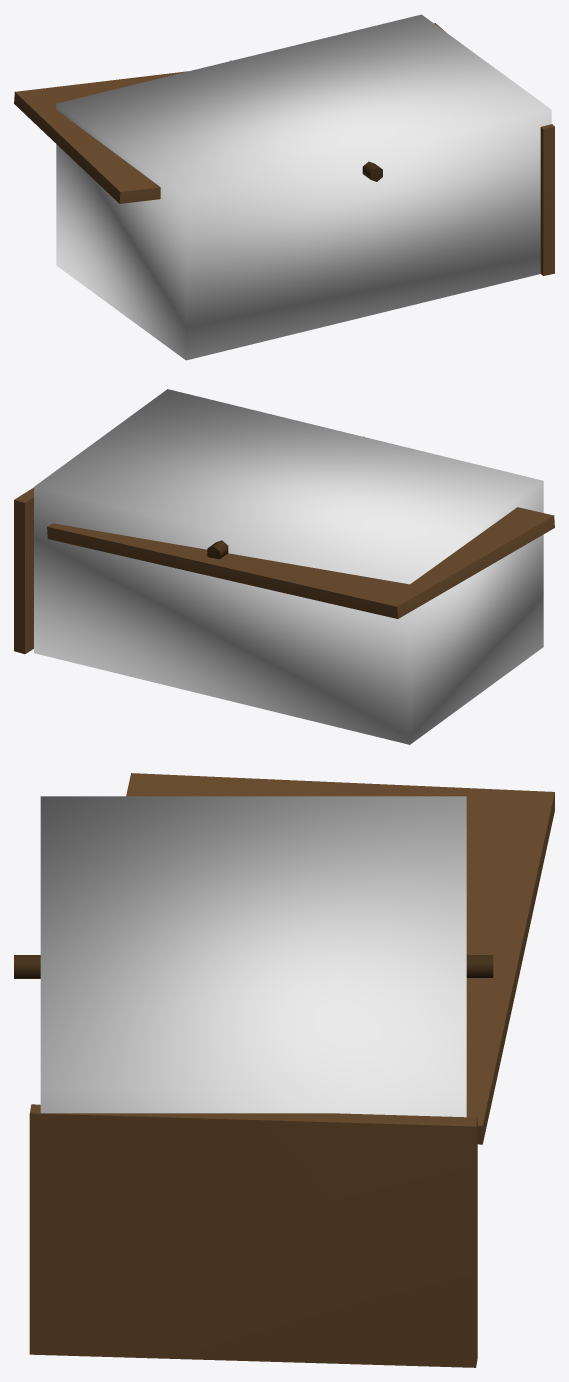
The model's file is salo.glb.
3 views of the same model, one above another, from view 1: azimuth 30°, elevation 25°; view 2: azimuth 150°, elevation 25°; view 3: azimuth 270°, elevation 25° (orthographic). The views are drawn at different scales.
Visible parts, largest first — view 1: salo-colcaja, salo_papel; view 2: salo-colcaja, salo_papel; view 3: salo_papel, salo-colcaja.
Boxes of the visible parts, bbox=[...] form: salo-colcaja: bbox=[56, 14, 551, 360]; salo_papel: bbox=[14, 23, 554, 275]; salo-colcaja: bbox=[34, 389, 543, 744]; salo_papel: bbox=[14, 436, 554, 654]; salo_papel: bbox=[14, 773, 554, 1367]; salo-colcaja: bbox=[40, 796, 466, 1117].
Size of the model in its own units: 0.1497 by 0.055 by 0.1016.
